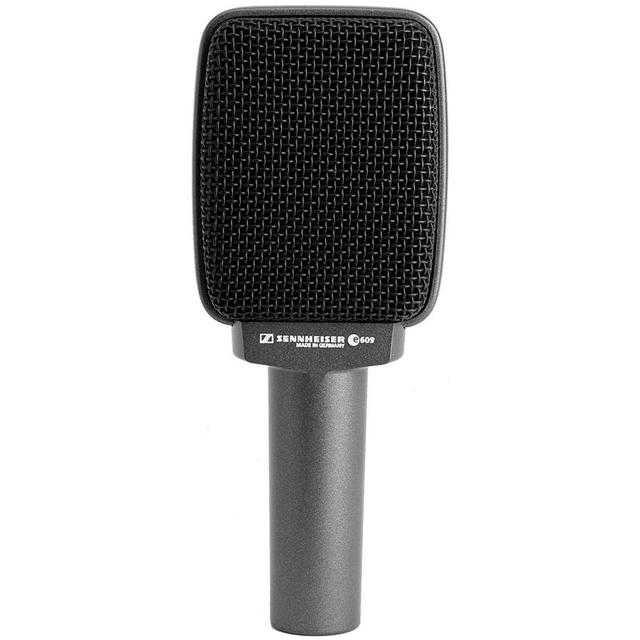microphone: (195, 11, 444, 637)
